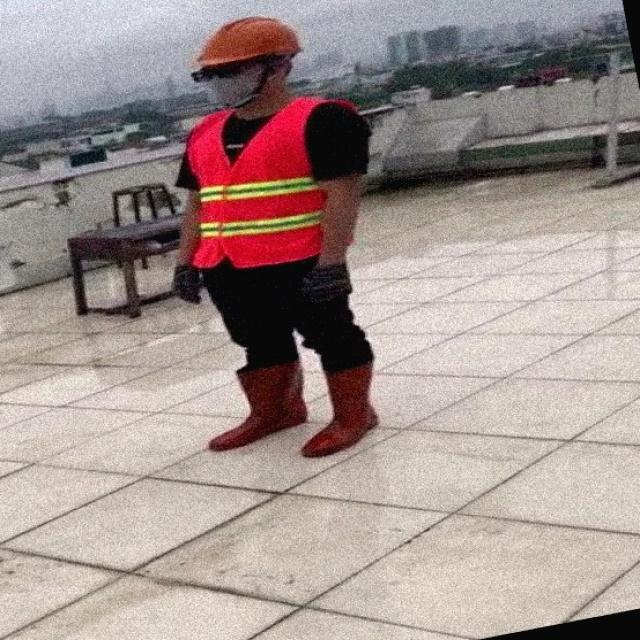Capacete: (196, 17, 300, 68)
Colete: (187, 97, 325, 267)
Oculos: (191, 65, 247, 81)
